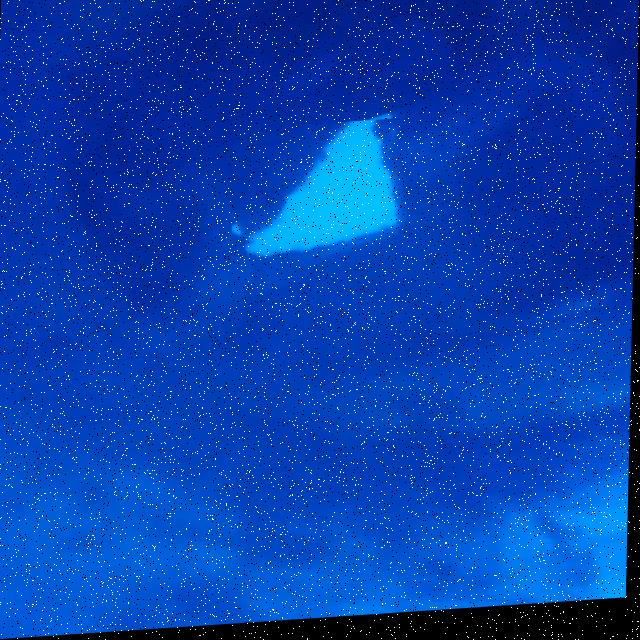litter: (231, 122, 429, 290)
